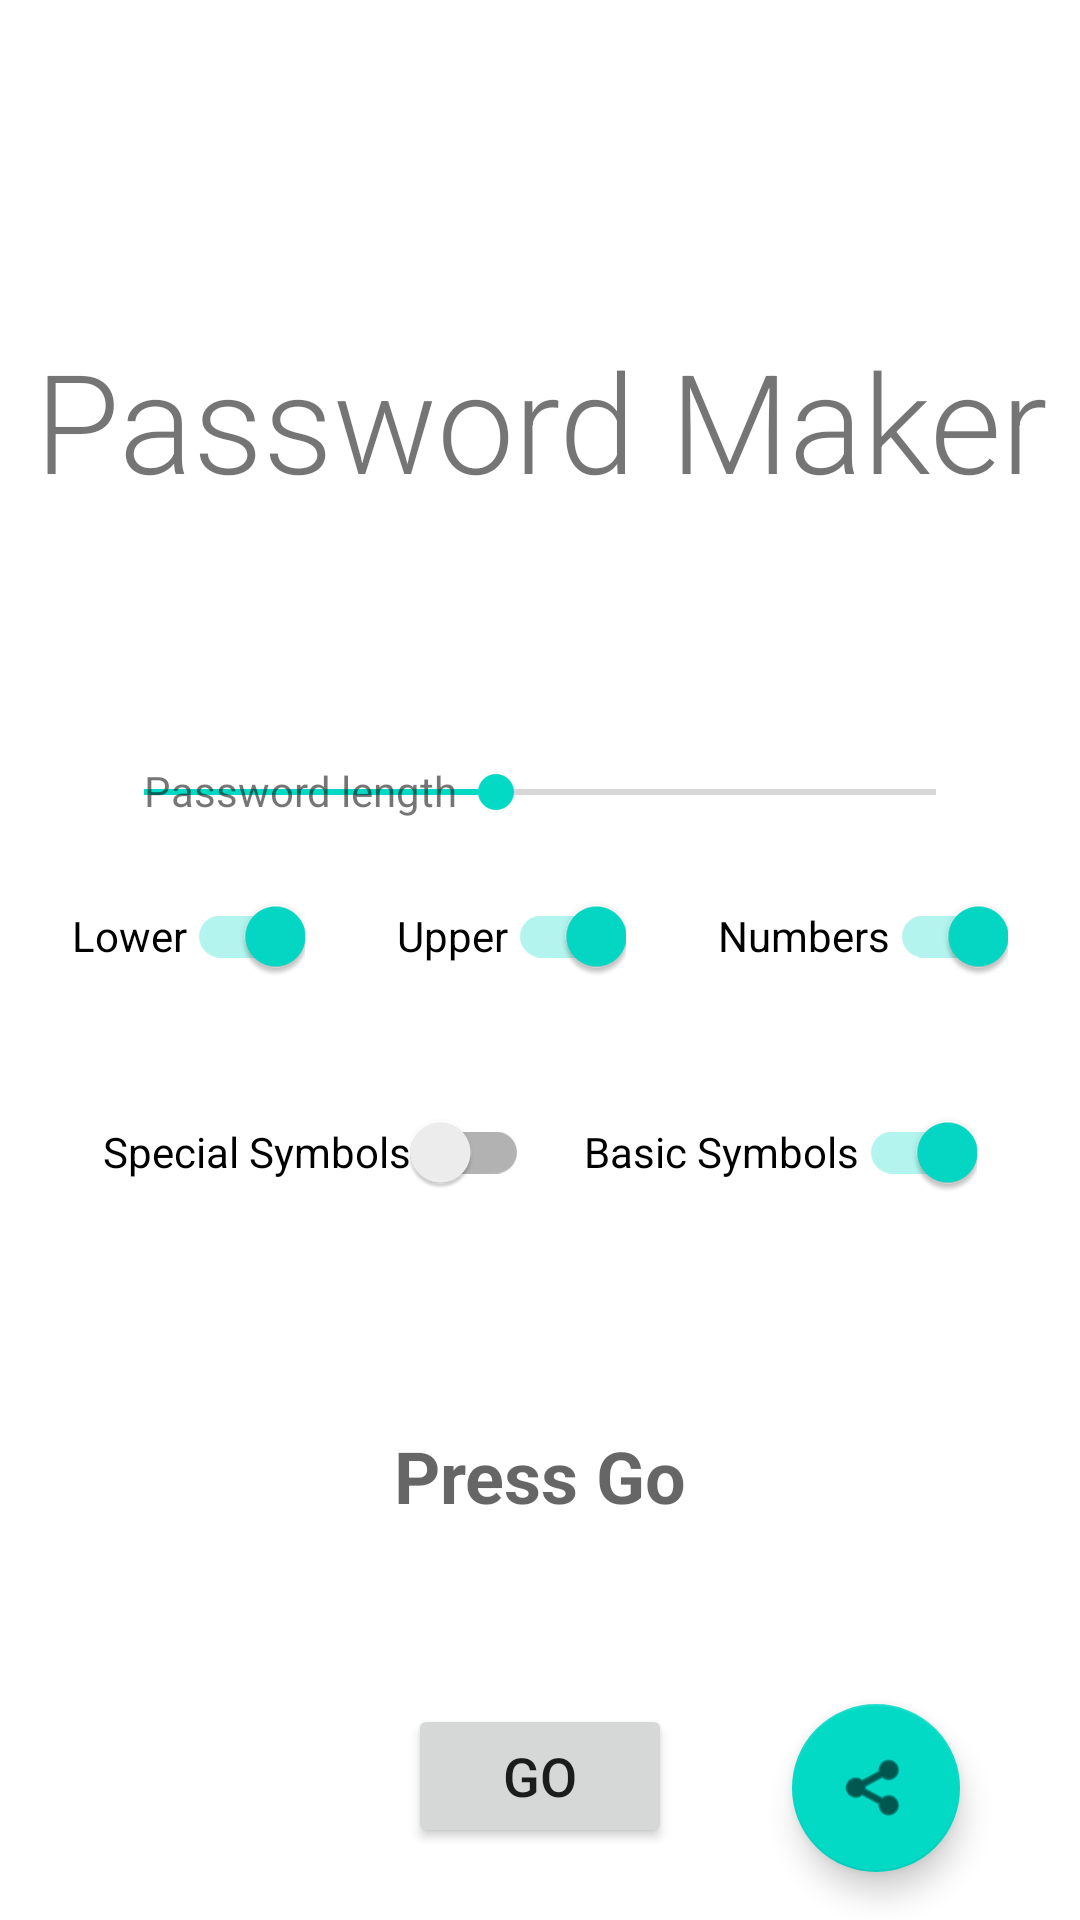

Where to tap for icons on this 1080px×1920px app screen, as (x=x, y=y):
share: (x=876, y=1788)
